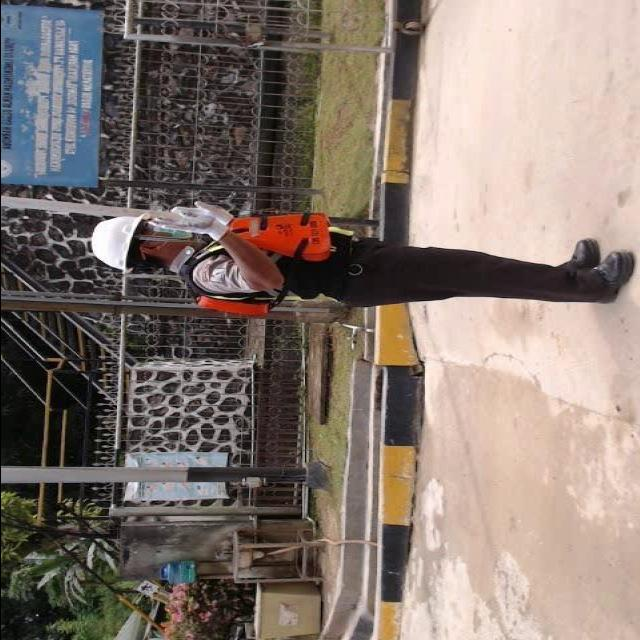helmet: (79, 206, 143, 284)
